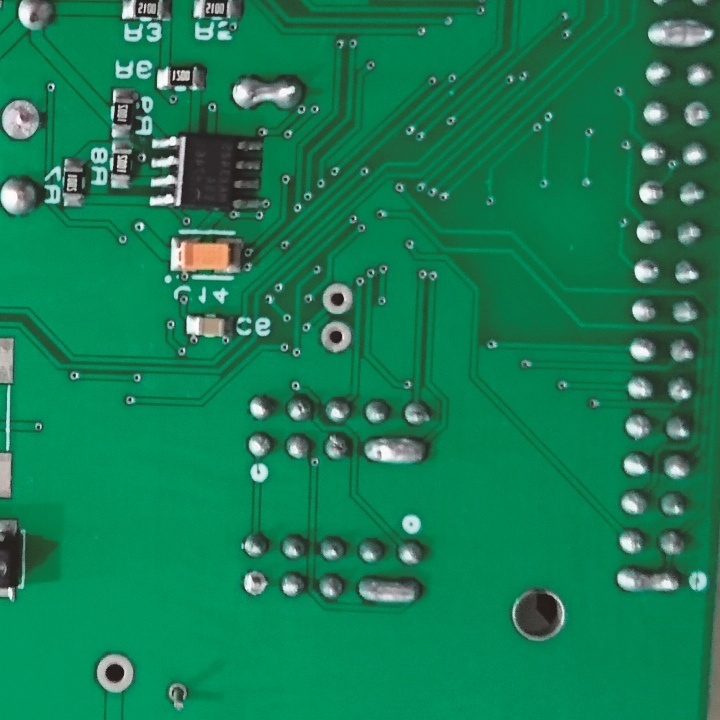F: (1, 98, 44, 142), (94, 649, 139, 689), (318, 319, 355, 355), (322, 280, 359, 316), (236, 566, 270, 600), (633, 175, 668, 207), (161, 679, 190, 711), (683, 98, 713, 128), (631, 257, 659, 288)
P: (230, 74, 304, 115), (641, 15, 716, 52), (611, 560, 684, 597), (354, 572, 426, 609), (364, 430, 426, 471)
